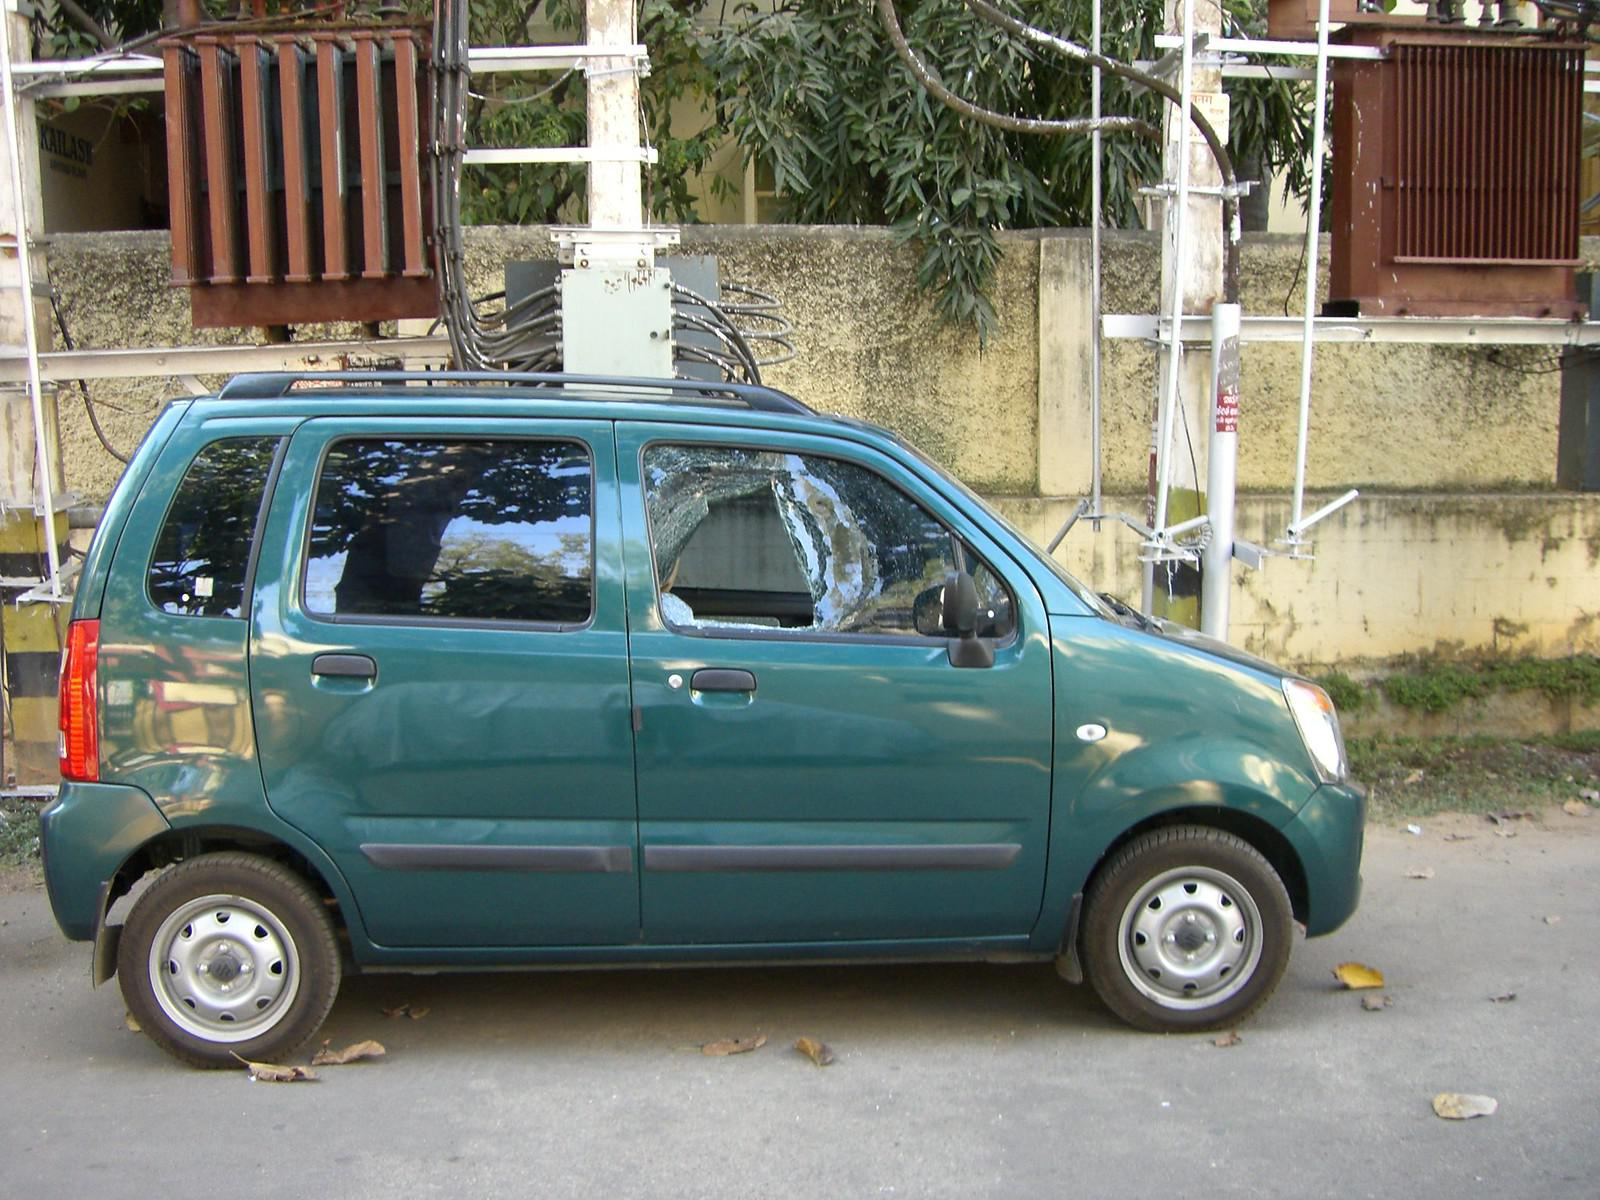doorouter-dent: (645, 403, 1037, 793)
